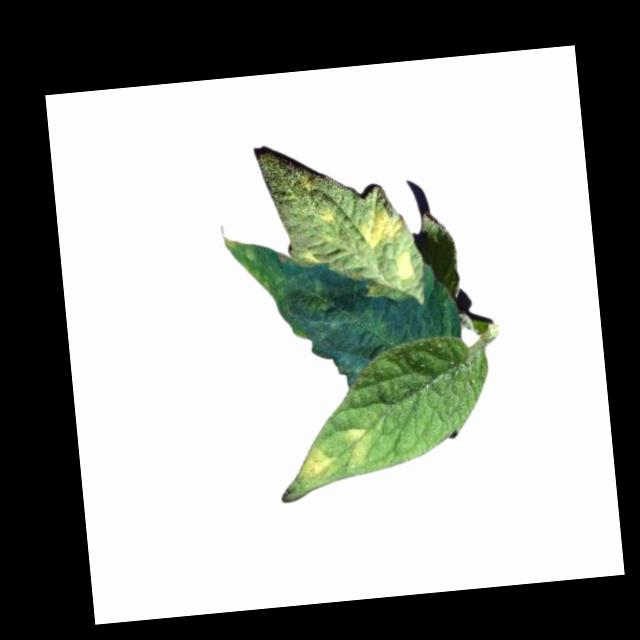Leaf_Mold: (226, 231, 293, 305), (357, 201, 409, 249), (293, 439, 341, 489), (342, 421, 378, 469), (393, 249, 418, 286), (314, 202, 342, 227)
